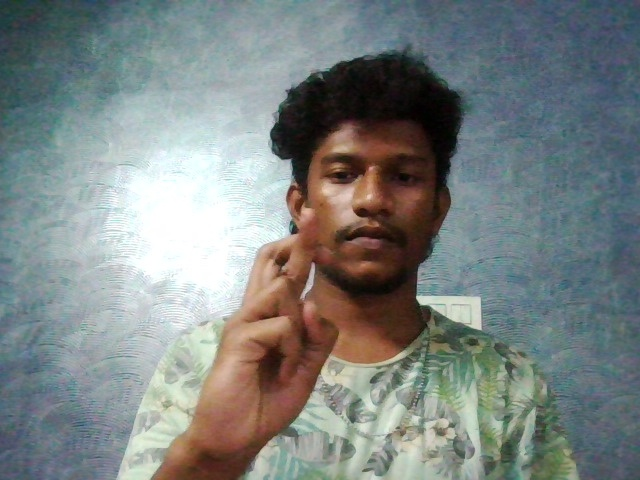hope: (197, 190, 378, 466)
